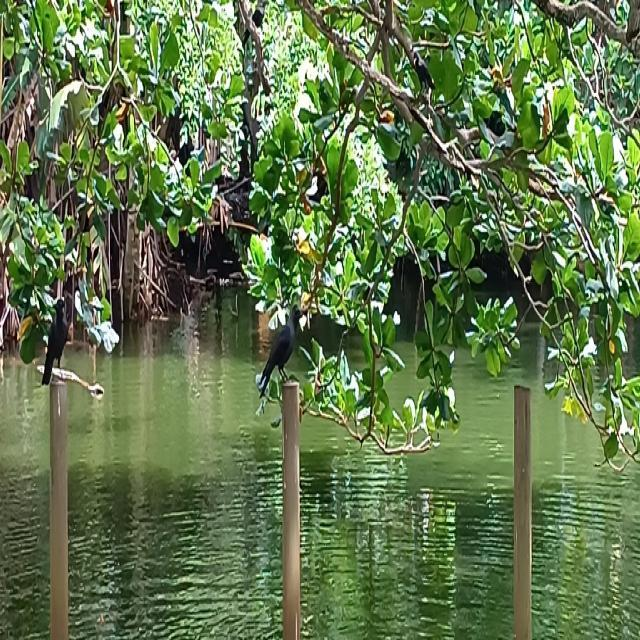bird: (257, 302, 303, 403), (40, 296, 70, 391), (412, 50, 436, 99)
